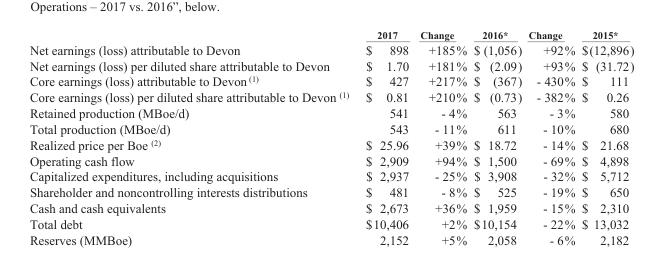table: (28, 29, 633, 246)
table column: (28, 29, 356, 246), (356, 29, 413, 246), (413, 29, 469, 246), (577, 29, 633, 246), (469, 29, 524, 246), (524, 29, 577, 246)
table column header: (28, 29, 633, 41)
table row: (28, 41, 633, 57), (28, 57, 633, 73), (28, 88, 633, 104), (28, 104, 633, 120), (28, 120, 633, 136), (28, 136, 633, 152), (28, 152, 633, 168), (28, 183, 633, 199), (28, 199, 633, 215), (28, 215, 633, 231), (28, 73, 633, 88), (28, 168, 633, 183), (28, 231, 633, 246), (28, 29, 633, 41)
